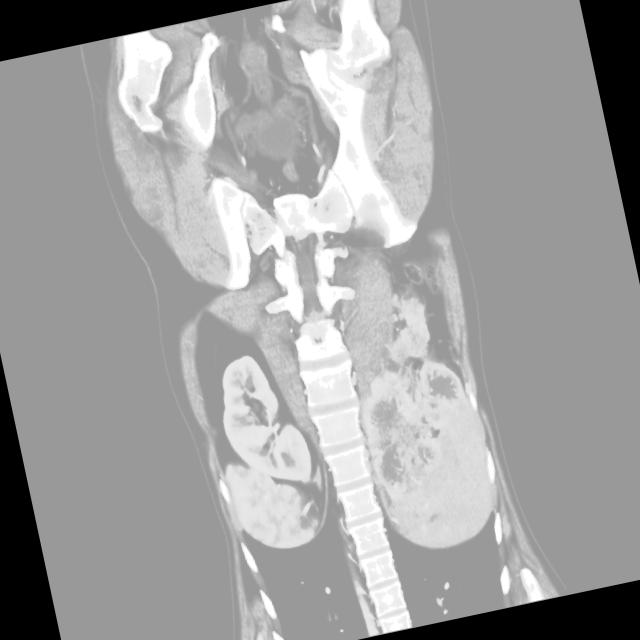TUMOR: (98, 183, 530, 560)
